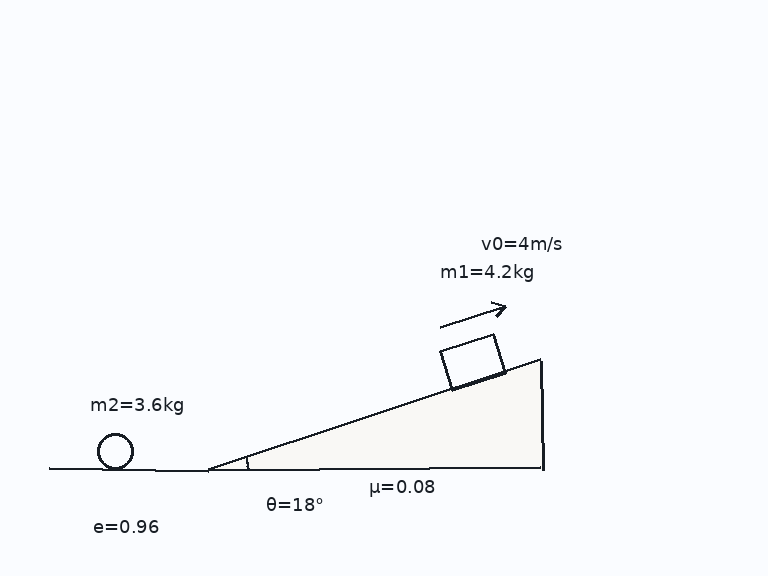ball: (95, 431, 135, 471)
block: (438, 332, 507, 392)
ramp: (206, 359, 544, 471)
